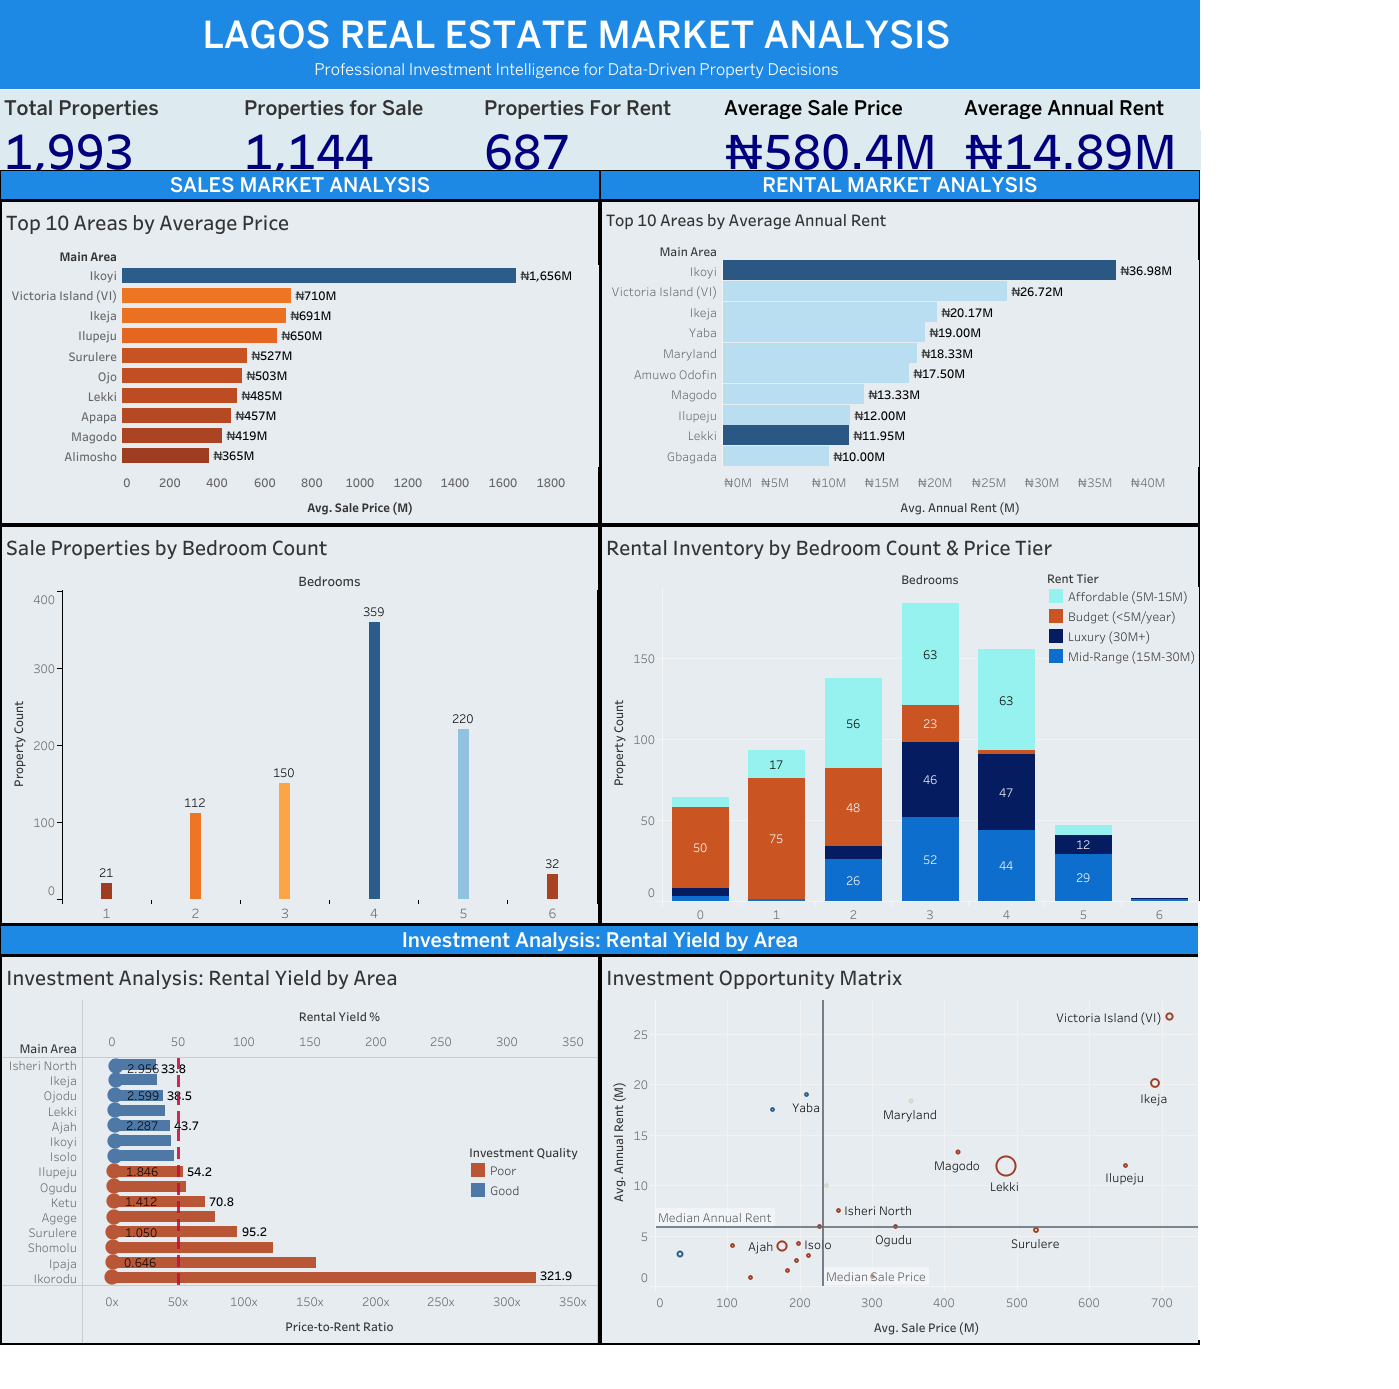

This screenshot's page, from the dashboard's own definition file:
{"tool":"tableau","page":{"name":"Dashboard 1","canvas":[1400,1390],"ordinal":0},"visuals":[{"type":"text","box":[45,6,1063,80]},{"type":"worksheet","title":"Total Properties","mark":"Automatic","box":[0,90,240,80]},{"type":"worksheet","title":"Properties for Sale","mark":"Automatic","box":[240,90,240,80]},{"type":"worksheet","title":"Properties For Rent","mark":"Automatic","box":[480,90,240,80]},{"type":"worksheet","title":"Avg Sale Price","mark":"Automatic","box":[720,90,240,80]},{"type":"worksheet","title":"Avg Rent Price","mark":"Automatic","box":[960,90,240,80]},{"type":"text","box":[0,170,600,30]},{"type":"text","box":[600,170,600,30]},{"type":"worksheet","title":"Price by Area","mark":"Automatic","rows":["Main_Area"],"cols":["Calculation_1325772180250624"],"box":[0,200,600,325]},{"type":"worksheet","title":"Rentals - Top Areas","mark":"Bar","rows":["Main_Area"],"cols":["Calculation_1325772180357121"],"box":[600,200,600,325]},{"type":"worksheet","title":"Sale Price Distribution ","mark":"Bar","rows":["Calculation_1325772181803011"],"cols":["Bedrooms"],"box":[0,525,600,400]},{"type":"worksheet","title":"Rentals - Bedroom Mix","mark":"Automatic","rows":["Calculation_1325772181803011"],"cols":["Bedrooms"],"box":[600,525,600,400]},{"type":"legend","title":"Rentals - Bedroom Mix","param":"[federated.1yh1v750vlo6wv1c4xe3q1stpvgg].[none:Calculation_1325772184432650:nk]","box":[1046,567,154,98]},{"type":"text","box":[0,925,1200,30]},{"type":"worksheet","title":"Investment - Price to Rent Ratio","mark":"Automatic","rows":["Main_Area"],"cols":["Calculation_1325772181954564","Calculation_1325772182421509"],"box":[0,955,600,390]},{"type":"worksheet","title":"Investment Opportunity Matrix","mark":"Automatic","rows":["Calculation_1325772180357121"],"cols":["Calculation_1325772180250624"],"box":[600,955,600,390]},{"type":"legend","title":"Investment - Price to Rent Ratio","param":"[federated.1yh1v750vlo6wv1c4xe3q1stpvgg].[none:Calculation_1325772570095629:nk]","box":[468,1141,140,58]}]}

Visuals, with their boxes in screenshot pixels (x1, y1, x2, y2), scaled from the page's 1400x1390 canvas onto the 1399x1389 screenshot:
text: region(45, 6, 1107, 86)
"Total Properties" worksheet: region(0, 90, 240, 170)
"Properties for Sale" worksheet: region(240, 90, 480, 170)
"Properties For Rent" worksheet: region(480, 90, 719, 170)
"Avg Sale Price" worksheet: region(719, 90, 959, 170)
"Avg Rent Price" worksheet: region(959, 90, 1199, 170)
text: region(0, 170, 600, 200)
text: region(600, 170, 1199, 200)
"Price by Area" worksheet: region(0, 200, 600, 525)
"Rentals - Top Areas" worksheet (Bar marks): region(600, 200, 1199, 525)
"Sale Price Distribution " worksheet (Bar marks): region(0, 525, 600, 924)
"Rentals - Bedroom Mix" worksheet: region(600, 525, 1199, 924)
"Rentals - Bedroom Mix" legend: region(1045, 567, 1199, 665)
text: region(0, 924, 1199, 954)
"Investment - Price to Rent Ratio" worksheet: region(0, 954, 600, 1344)
"Investment Opportunity Matrix" worksheet: region(600, 954, 1199, 1344)
"Investment - Price to Rent Ratio" legend: region(468, 1140, 608, 1198)
